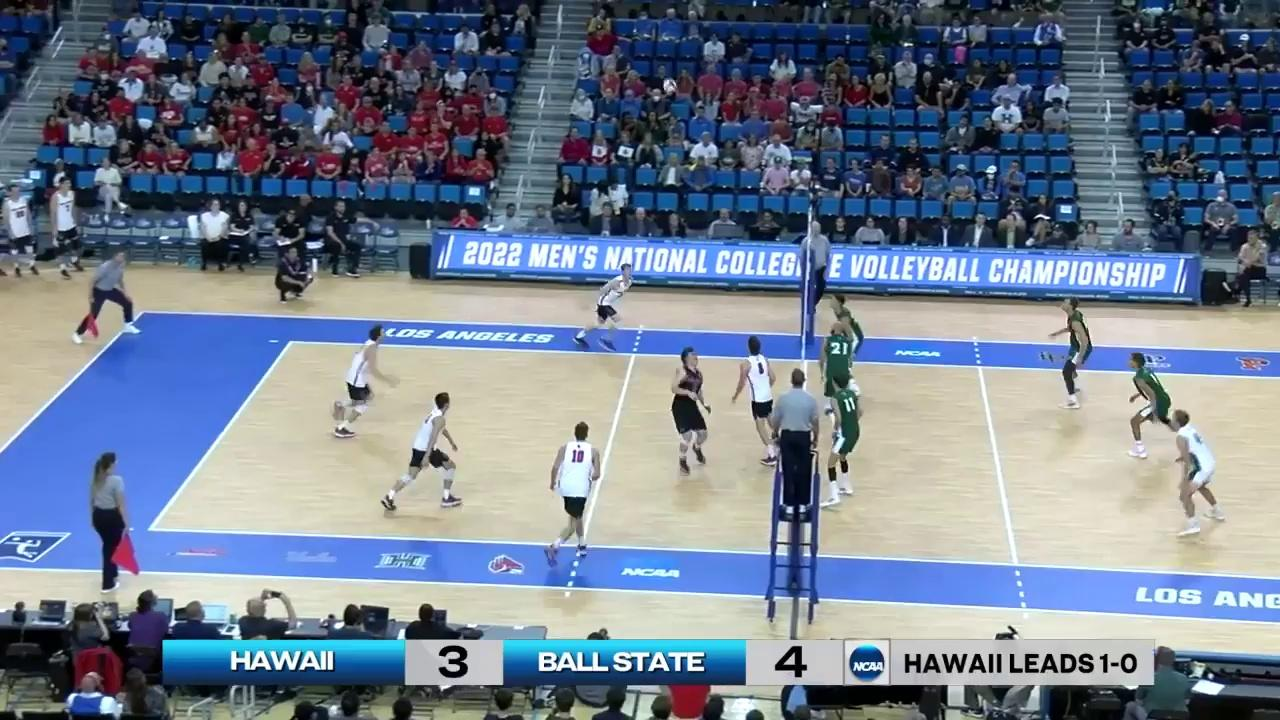player: (384, 393, 462, 511), (542, 420, 599, 565), (1167, 410, 1227, 537), (1123, 352, 1188, 459), (334, 326, 390, 437), (732, 336, 777, 465), (670, 345, 712, 475), (571, 265, 633, 353), (1049, 297, 1094, 411), (827, 370, 860, 506), (823, 290, 865, 386), (821, 322, 856, 424)
refree: (770, 367, 820, 521), (89, 454, 139, 587), (81, 247, 141, 342), (801, 220, 828, 316)
